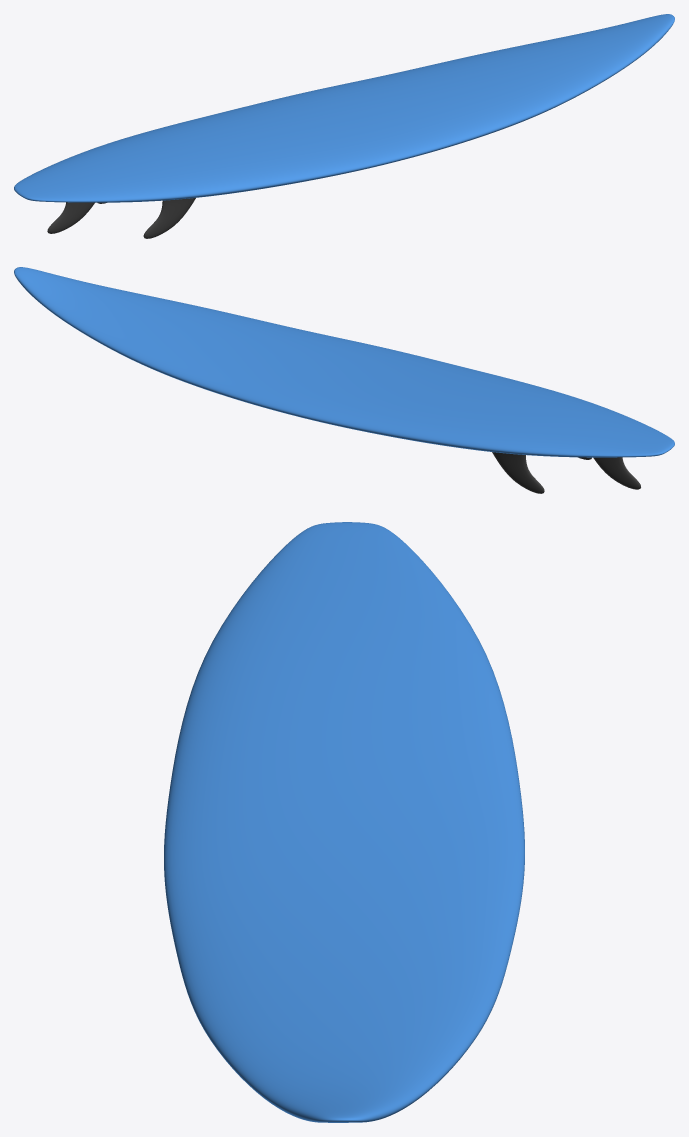
Rendered from Planche.fbx.
3 renders of one model, top to bottom at view 1: azimuth 30°, elevation 25°; view 2: azimuth 150°, elevation 25°; view 3: azimuth 270°, elevation 25°, orthographic. The views are drawn at different scales.
Parts seen in each view (by area): view 1: Prancha, Cube.001, Cube; view 2: Prancha, Cube.002, Cube; view 3: Prancha.
Boxes of the visible parts, box(x1,y1,x2,y2) form: Prancha: box(14, 14, 674, 202); Cube.001: box(143, 198, 195, 238); Cube: box(47, 202, 94, 233); Prancha: box(14, 267, 674, 457); Cube.002: box(492, 452, 544, 493); Cube: box(593, 457, 640, 489); Prancha: box(164, 522, 524, 1122).
Size of the model in its own units: 483 by 52.44 by 116.
